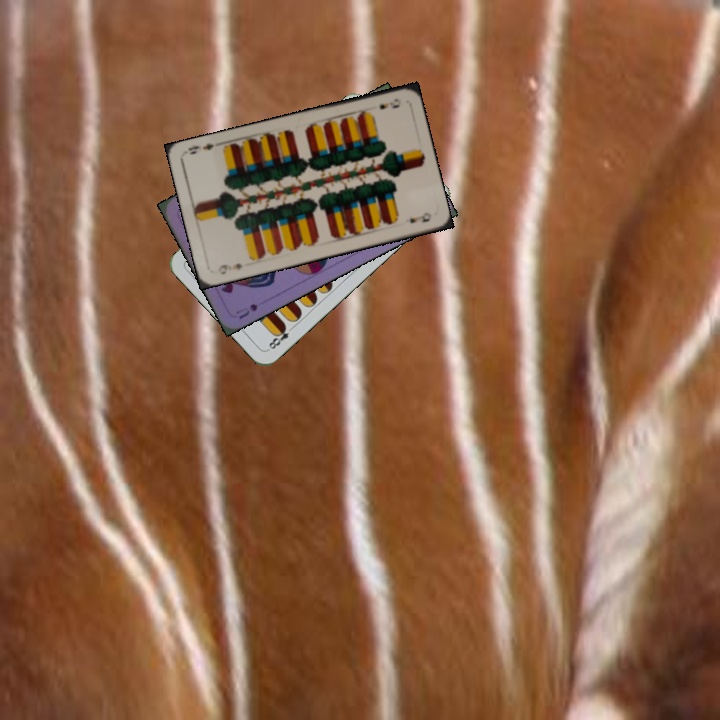E8: (264, 321, 297, 353)
E9: (214, 259, 246, 277), (375, 94, 402, 112)
SU: (232, 299, 260, 322)
